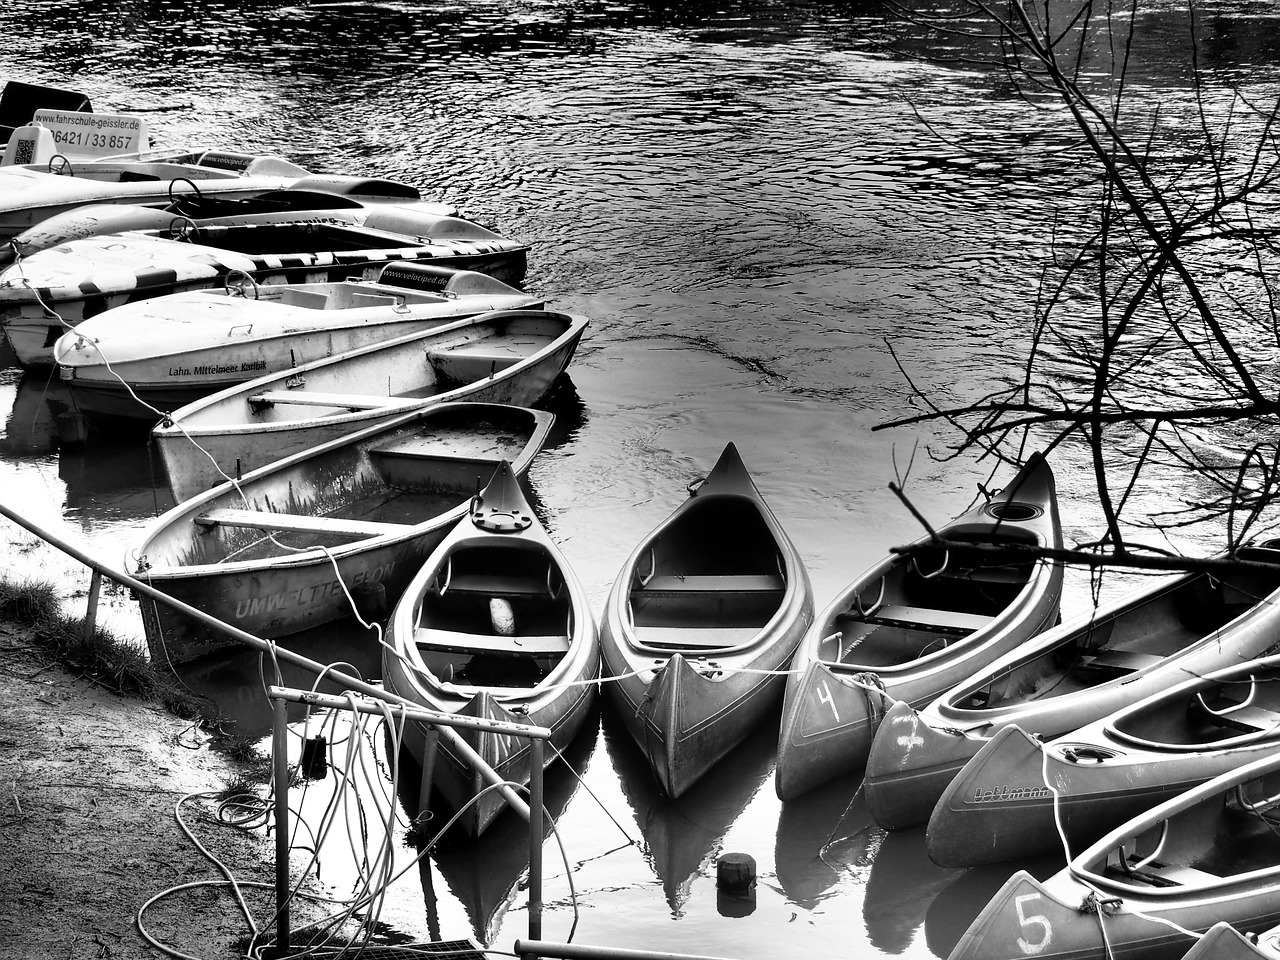kayak: (771, 446, 1067, 806), (370, 449, 597, 848), (602, 417, 819, 822)
